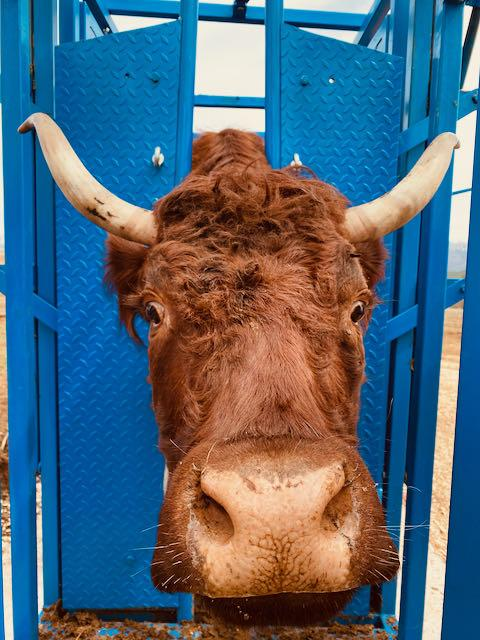muzzles: (134, 449, 409, 632)
